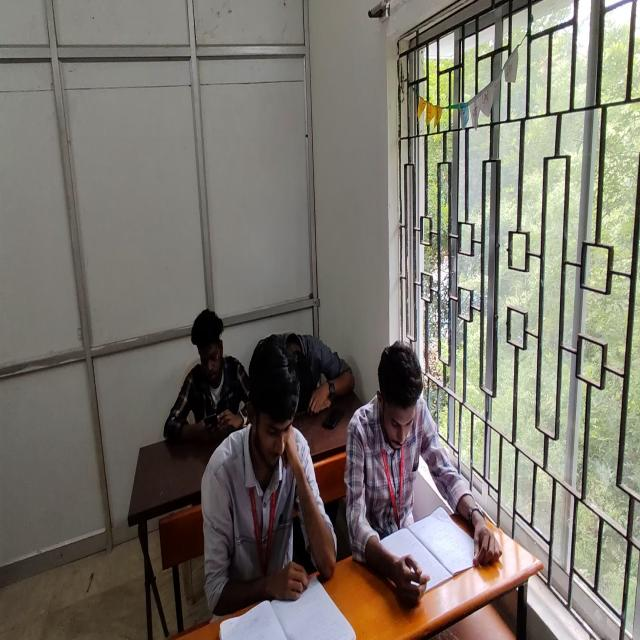reading: (199, 331, 336, 623), (360, 337, 488, 594)
sleeping: (254, 330, 350, 418)
using_mobile: (163, 310, 252, 444)
